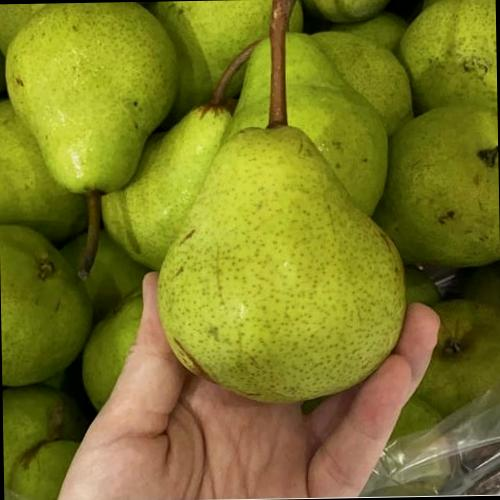Pear Unripe: (79, 100, 477, 418), (151, 143, 417, 362)
